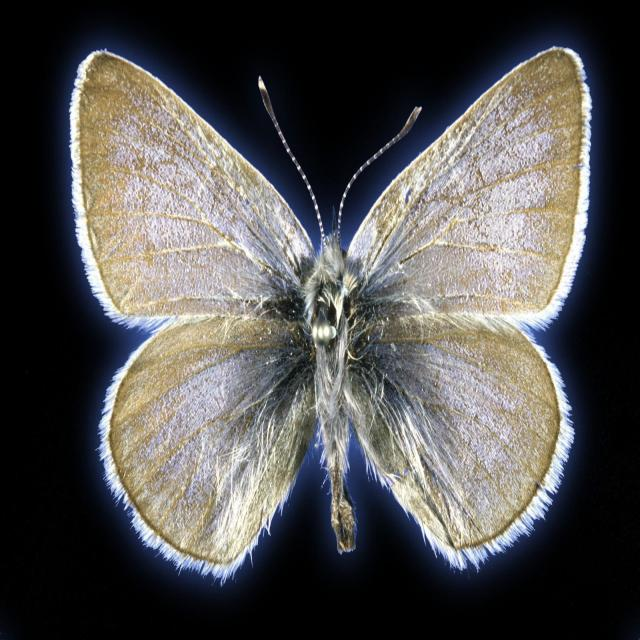butterfly: (70, 47, 591, 578)
